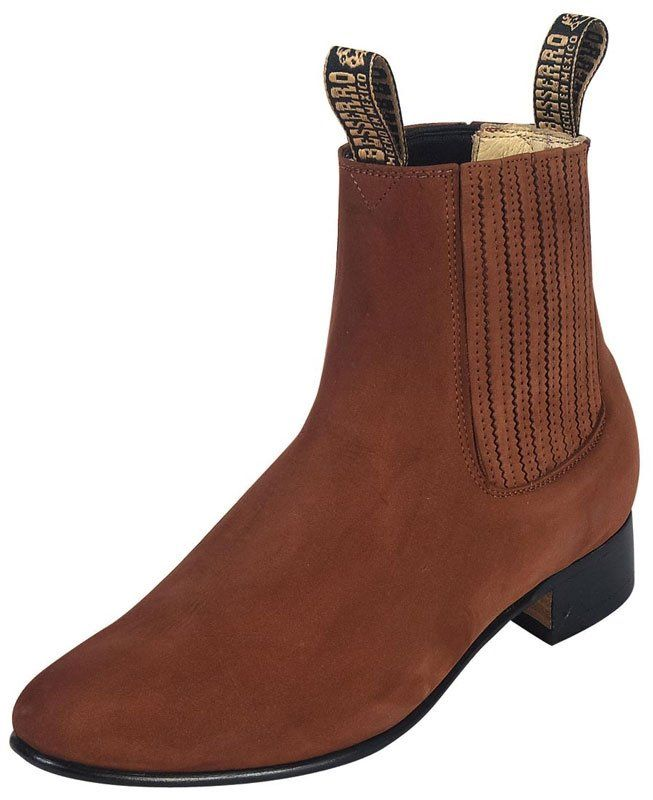gamuza: (12, 146, 639, 772)
